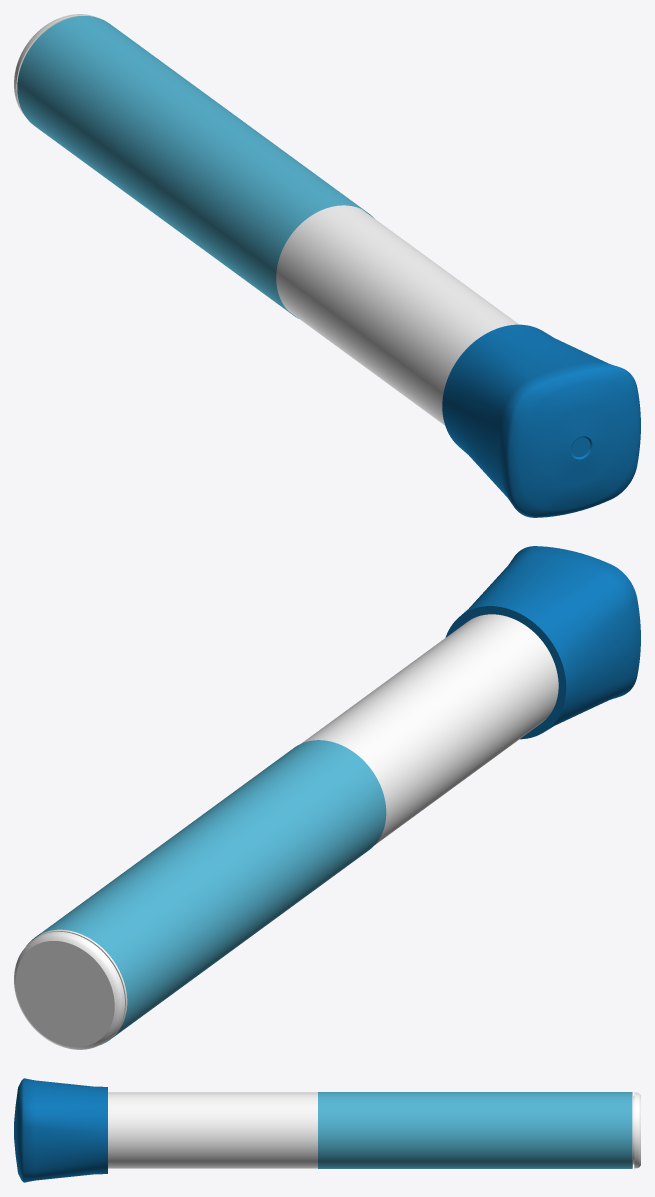
File: molly.glb
3 views of the same model, one above another, from view 1: azimuth 30°, elevation 25°; view 2: azimuth 150°, elevation 25°; view 3: azimuth 270°, elevation 25° (orthographic). The views are drawn at different scales.
Parts seen in each view (by area): view 1: Label_blue, Cap, Body; view 2: Label_blue, Body, Cap; view 3: Label_blue, Body, Cap.
Boxes of the visible parts, <box> form: Label_blue: <box>17,16,374,318</box>; Cap: <box>442,324,640,517</box>; Body: <box>14,14,518,425</box>; Label_blue: <box>26,740,386,1044</box>; Body: <box>14,614,558,1049</box>; Cap: <box>445,546,640,739</box>; Label_blue: <box>318,1092,632,1168</box>; Body: <box>108,1092,640,1168</box>; Cap: <box>14,1078,107,1182</box>.
Size of the model in its own units: 2.92 by 2.93 by 19.38.
Materials: 3 (1 with a texture image).
